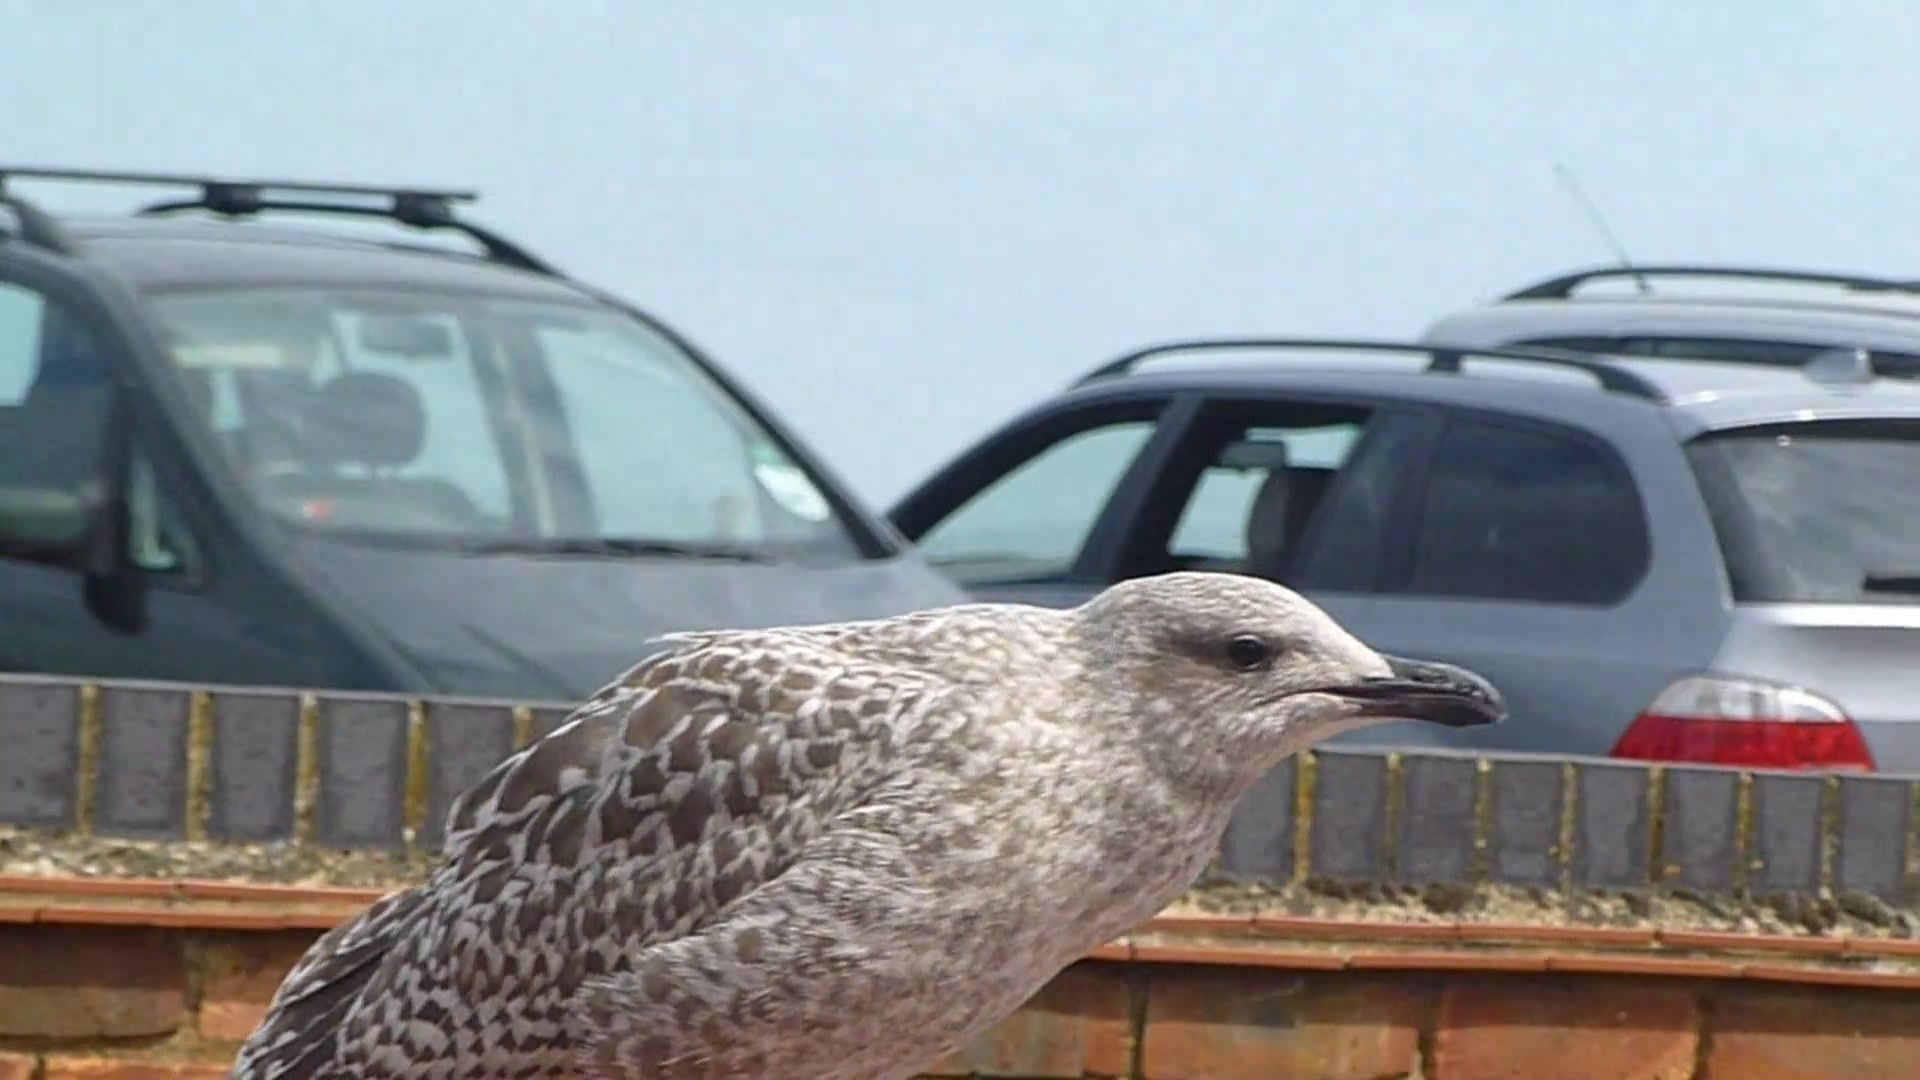bird: (225, 571, 1513, 1080)
